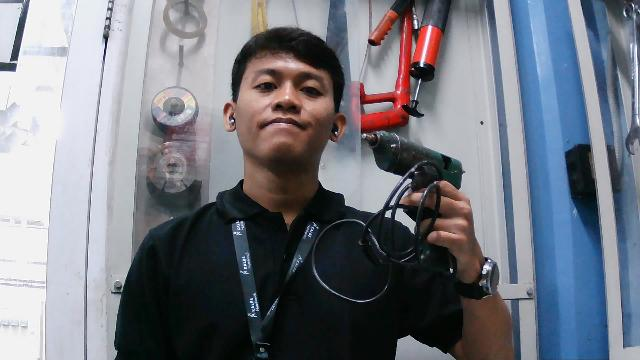gun_lem: (360, 123, 469, 244)
